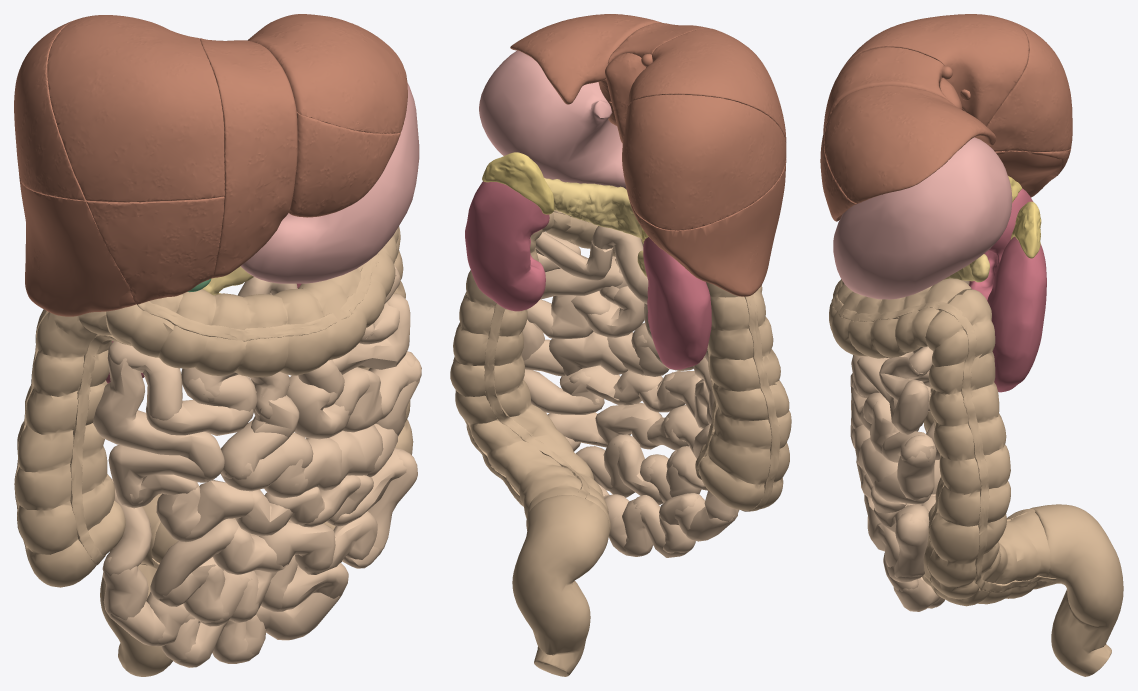
File: male-classified-abdomen.glb
3 views of the same model, side by side, from view 1: azimuth 30°, elevation 25°; view 2: azimuth 150°, elevation 25°; view 3: azimuth 270°, elevation 25° (orthographic). The views are drawn at different scales.
Parts seen in each view (by area): view 1: FMA7197, FMA7200, FMA7201, FMA7148, FMA7198; view 2: FMA7201, FMA7197, FMA7200, FMA7148, FMA7205, FMA7204, FMA7198, FMA15630; view 3: FMA7201, FMA7197, FMA7148, FMA7200, FMA7205, FMA7204, FMA15630, FMA7198.
Part boxes in pixels (x1,y1,x2,y2): FMA7197: [14, 14, 407, 316]; FMA7200: [93, 265, 421, 667]; FMA7201: [14, 226, 413, 676]; FMA7148: [240, 82, 419, 283]; FMA7198: [202, 266, 253, 295]; FMA7201: [450, 210, 791, 676]; FMA7197: [510, 14, 786, 296]; FMA7200: [521, 226, 739, 557]; FMA7148: [479, 50, 626, 189]; FMA7205: [465, 181, 549, 311]; FMA7204: [643, 237, 711, 369]; FMA7198: [544, 177, 647, 276]; FMA15630: [482, 152, 554, 214]; FMA7201: [829, 278, 1123, 676]; FMA7197: [820, 14, 1072, 221]; FMA7148: [833, 137, 1012, 299]; FMA7200: [850, 280, 969, 611]; FMA7205: [987, 236, 1046, 392]; FMA7204: [969, 188, 1033, 300]; FMA15630: [1010, 201, 1041, 258]; FMA7198: [943, 254, 989, 282].
Bounding box in the file's own units: 0.2443 × 0.4258 × 0.1911.
